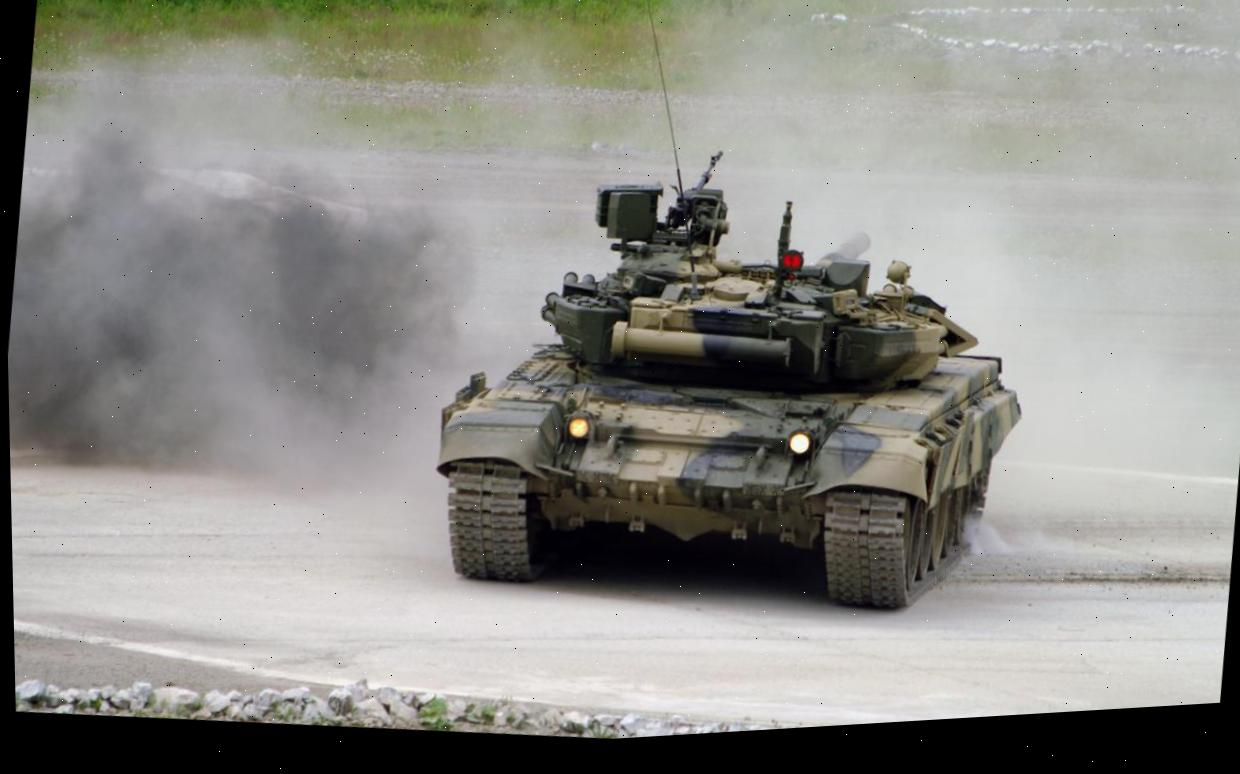tank: (415, 101, 1055, 652)
